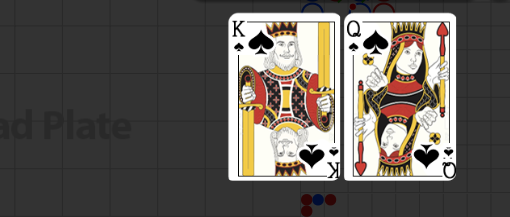9S: (440, 143, 455, 179)
KS: (230, 17, 247, 55)
